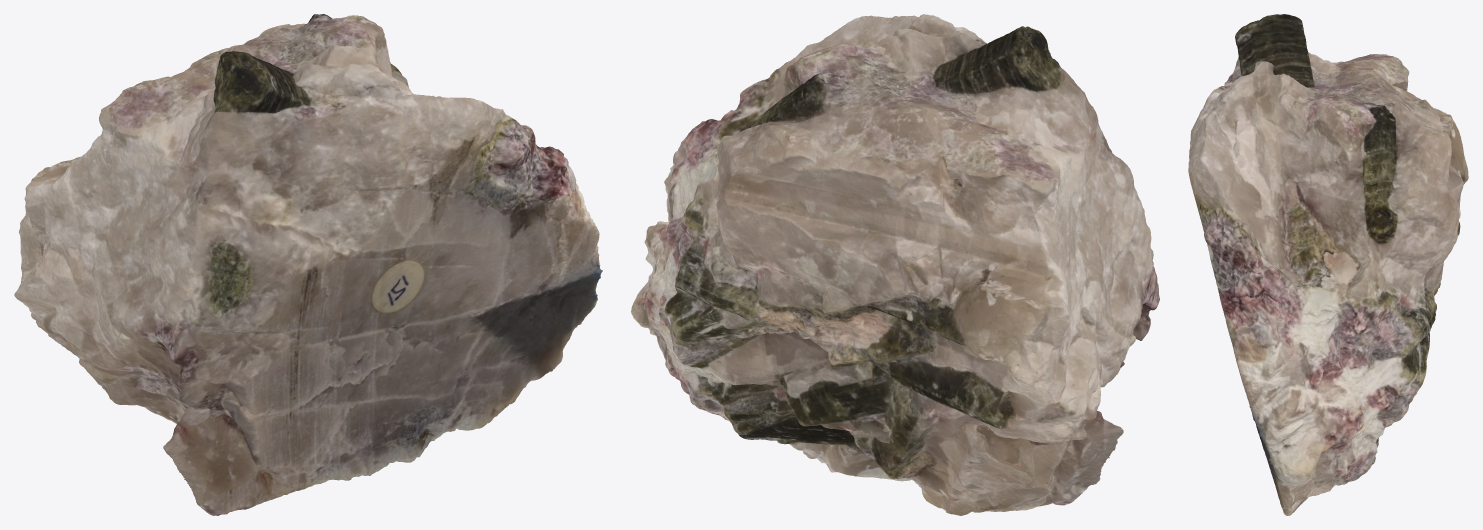
File: green_tourmaline.glb
3 renders of one model, left to right at view 1: azimuth 30°, elevation 25°; view 2: azimuth 150°, elevation 25°; view 3: azimuth 270°, elevation 25°, orthographic. The views are drawn at different scales.
Visible parts, largest first — view 1: Object_2; view 2: Object_2; view 3: Object_2.
Part boxes in pixels (x1=…): Object_2: x1=14, y1=14, x2=602, y2=515; Object_2: x1=631, y1=14, x2=1159, y2=515; Object_2: x1=1188, y1=14, x2=1468, y2=515.
Size of the model in its own units: 2.93 by 2.54 by 1.57.
1 material, 1 textured.
